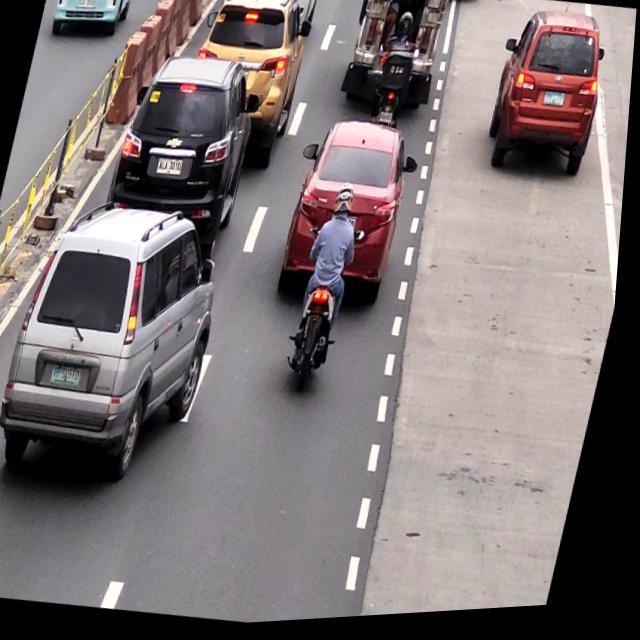Car: (4, 192, 244, 480), (105, 50, 270, 245), (277, 110, 423, 310), (480, 11, 614, 181), (184, 0, 320, 166)
Jeep: (343, 0, 457, 101)
License-Plate: (52, 362, 90, 391), (157, 153, 188, 182), (543, 96, 568, 113)
Motorcycle: (287, 190, 370, 389), (373, 22, 424, 127)
